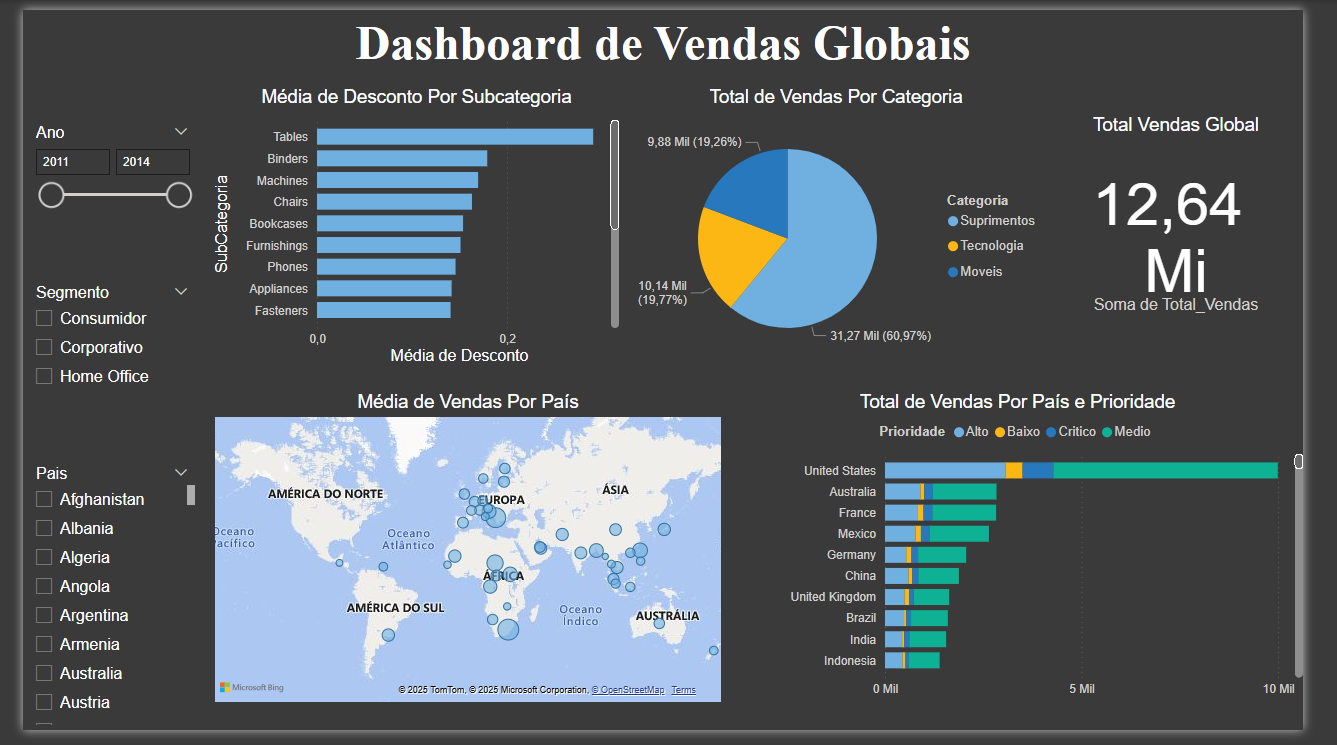

The page's visual inventory and layout, read from the dashboard file:
{"tool":"powerbi","page":{"name":"Dash","canvas":[1280,720],"ordinal":0},"visuals":[{"type":"card","title":"Total Vendas Global","fields":{"Values":["Sum(dataset.Total_Vendas)"]},"box":[1026.2,103.8,253.8,226.2],"z":0},{"type":"pieChart","title":"Total de Vendas Por Categoria","fields":{"Category":["dataset.Categoria"],"Y":["CountNonNull(dataset.ID_Pedido)"]},"box":[600,76.2,426.2,283.8],"z":1000},{"type":"barChart","title":"Total de Vendas Por País e Prioridade","fields":{"Category":["dataset.Pais"],"Y":["CountNonNull(dataset.ID_Pedido)"],"Series":["dataset.Prioridade"]},"box":[703.8,381.2,581.2,313.8],"z":2000},{"type":"clusteredBarChart","title":"Média de Desconto Por Subcategoria","fields":{"Category":["dataset.SubCategoria"],"Y":["Avg(dataset.Desconto)"]},"box":[186.2,76.2,415,282.5],"z":3000},{"type":"map","title":"Média de Vendas Por País","fields":{"Category":["dataset.Pais"],"Size":["Avg(dataset.Total_Vendas)"]},"box":[187,381.4,515.9,315.4],"z":4000},{"type":"slicer","fields":{"Values":["dataset.Pais"]},"box":[0,450.3,176.7,269.3],"z":5000},{"type":"slicer","fields":{"Values":["dataset.Segmento"]},"box":[0,269.3,176.7,176.7],"z":6000},{"type":"slicer","fields":{"Values":["dataset.Data_Pedido.Variation.Hierarquia de datas.Ano"]},"box":[0,108.6,176.7,160.7],"z":7000},{"type":"textbox","box":[0,0,1280,76.2],"z":9000}]}

Visuals, with their boxes in screenshot pixels (x1, y1, x2, y2), scaled from the page's 1280x720 canvas onto the 1337x745 screenshot:
"Total Vendas Global" card: [1072, 107, 1336, 341]
"Total de Vendas Por Categoria" pieChart: [627, 79, 1072, 373]
"Total de Vendas Por País e Prioridade" barChart: [735, 394, 1336, 719]
"Média de Desconto Por Subcategoria" clusteredBarChart: [194, 79, 628, 371]
"Média de Vendas Por País" map: [195, 395, 734, 721]
slicer - dataset.Pais: [0, 466, 185, 744]
slicer - dataset.Segmento: [0, 279, 185, 461]
slicer - dataset.Data_Pedido.Variation.Hierarquia de datas.Ano: [0, 112, 185, 279]
textbox: [0, 0, 1336, 79]
